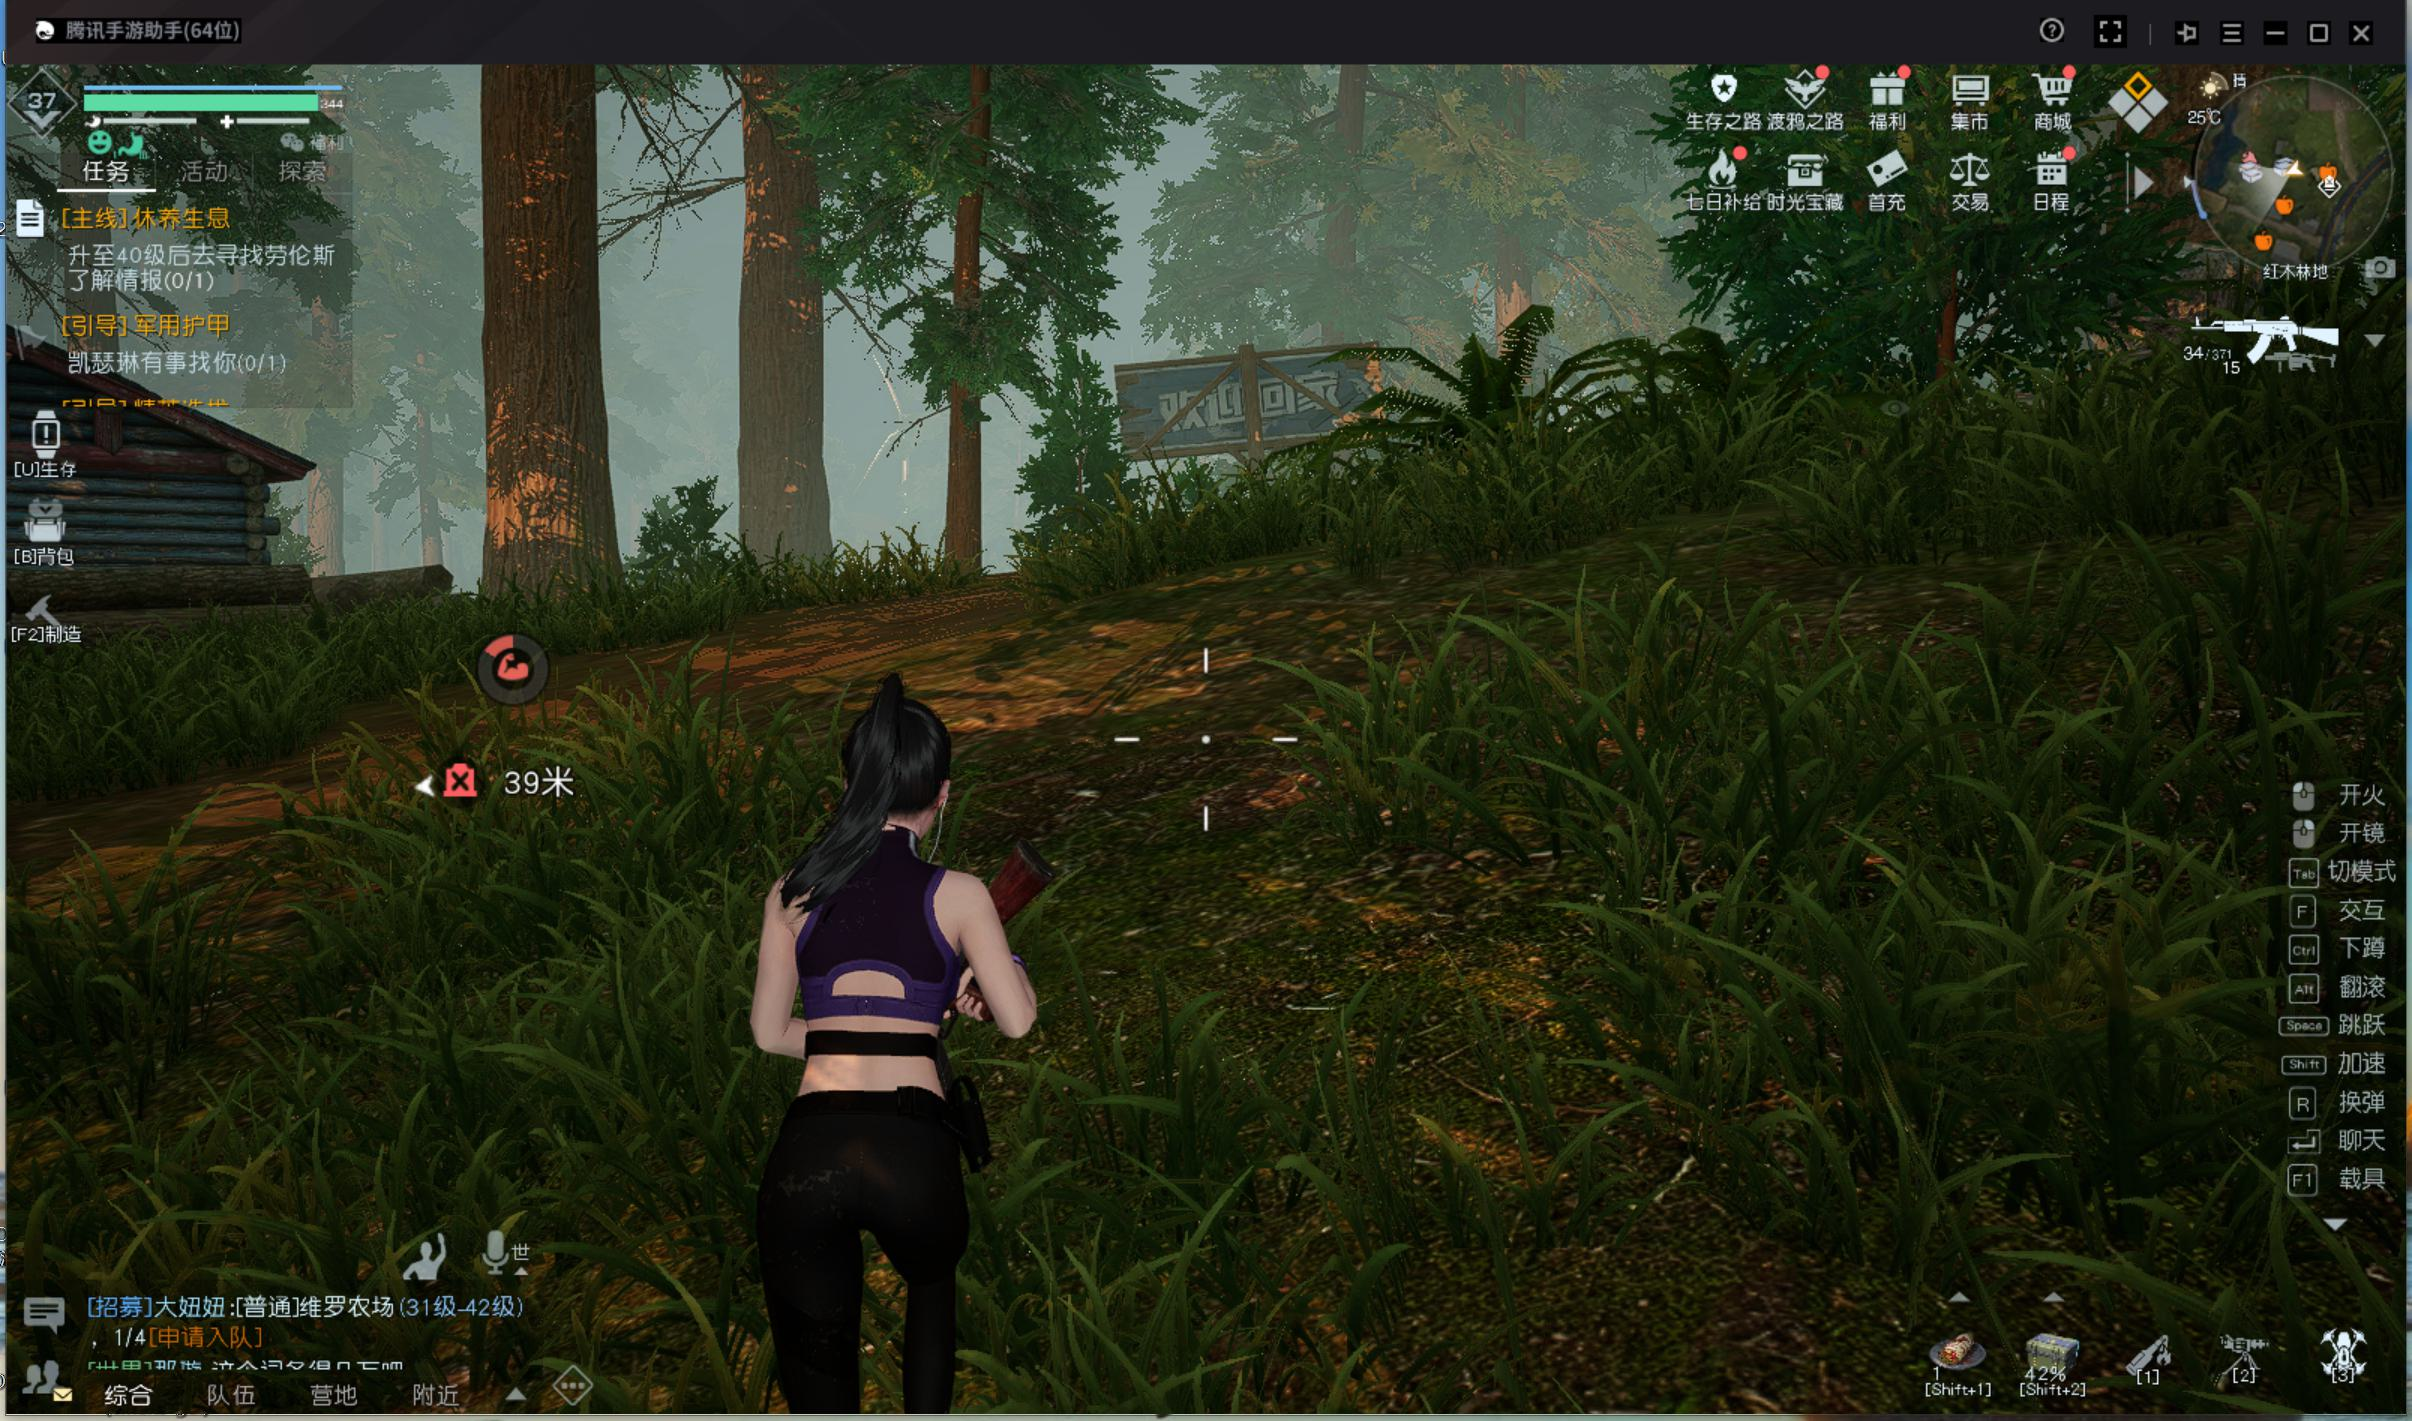tree: (469, 81, 622, 660), (729, 147, 842, 629), (939, 250, 986, 607)
